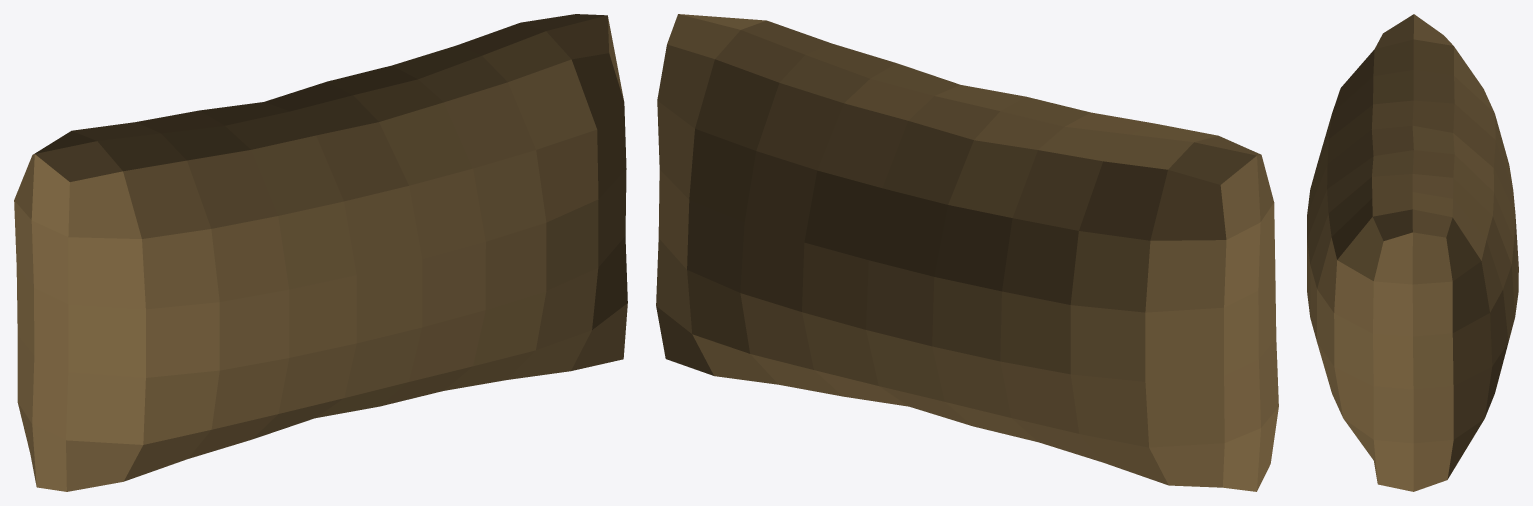
File: Pillow 9.fbx
3 renders of one model, left to right at view 1: azimuth 30°, elevation 25°; view 2: azimuth 150°, elevation 25°; view 3: azimuth 270°, elevation 25°, orthographic. The views are drawn at different scales.
Parts seen in each view (by area): view 1: Node 0; view 2: Node 0; view 3: Node 0.
Boxes of the visible parts, x1,y1,x2,y2 form: Node 0: (14,14,627,491); Node 0: (656,14,1278,491); Node 0: (1307,14,1518,491).
Size of the model in its own units: 0.2699 by 0.3657 by 0.6656.
